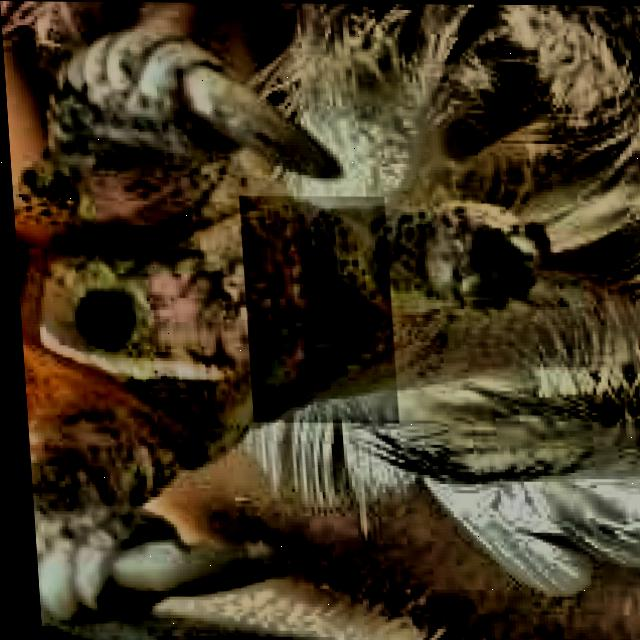Bumble foot: (14, 227, 205, 404)
